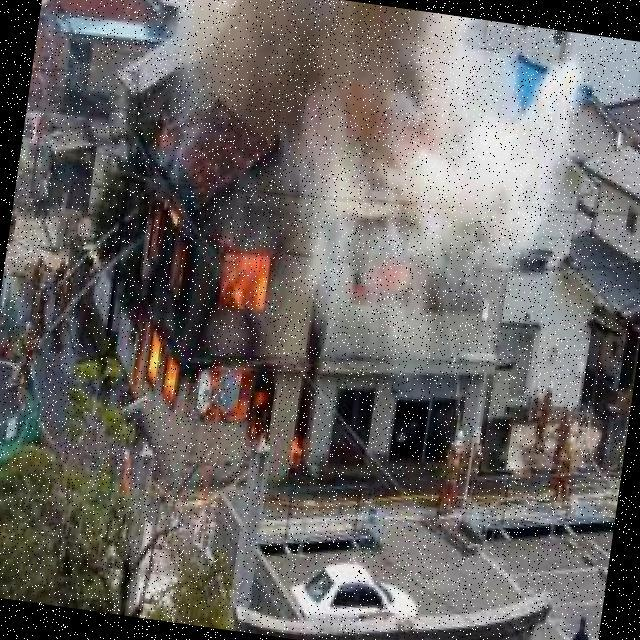Fire: (86, 175, 346, 486)
